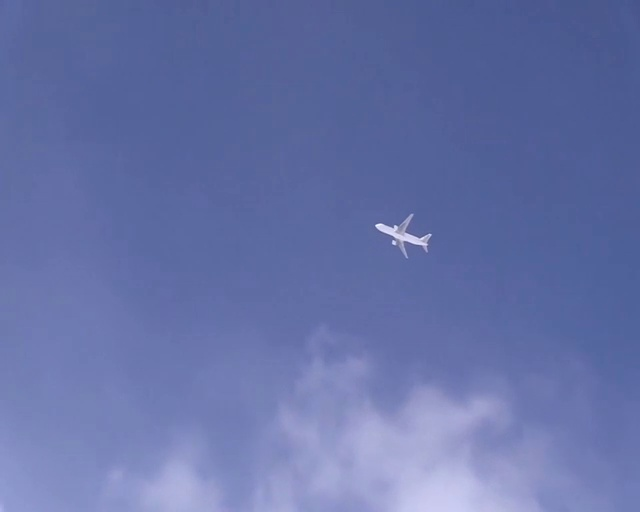AIRPLANE: (374, 212, 432, 258)
